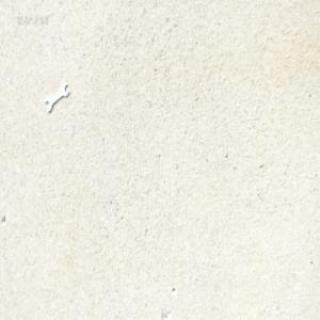Wrenchtrack_idkeyframe: (44, 80, 69, 114)
